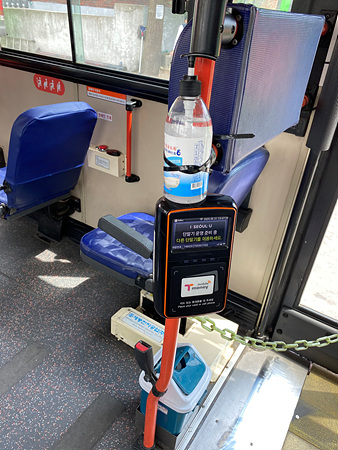terminal: (154, 192, 233, 318)
